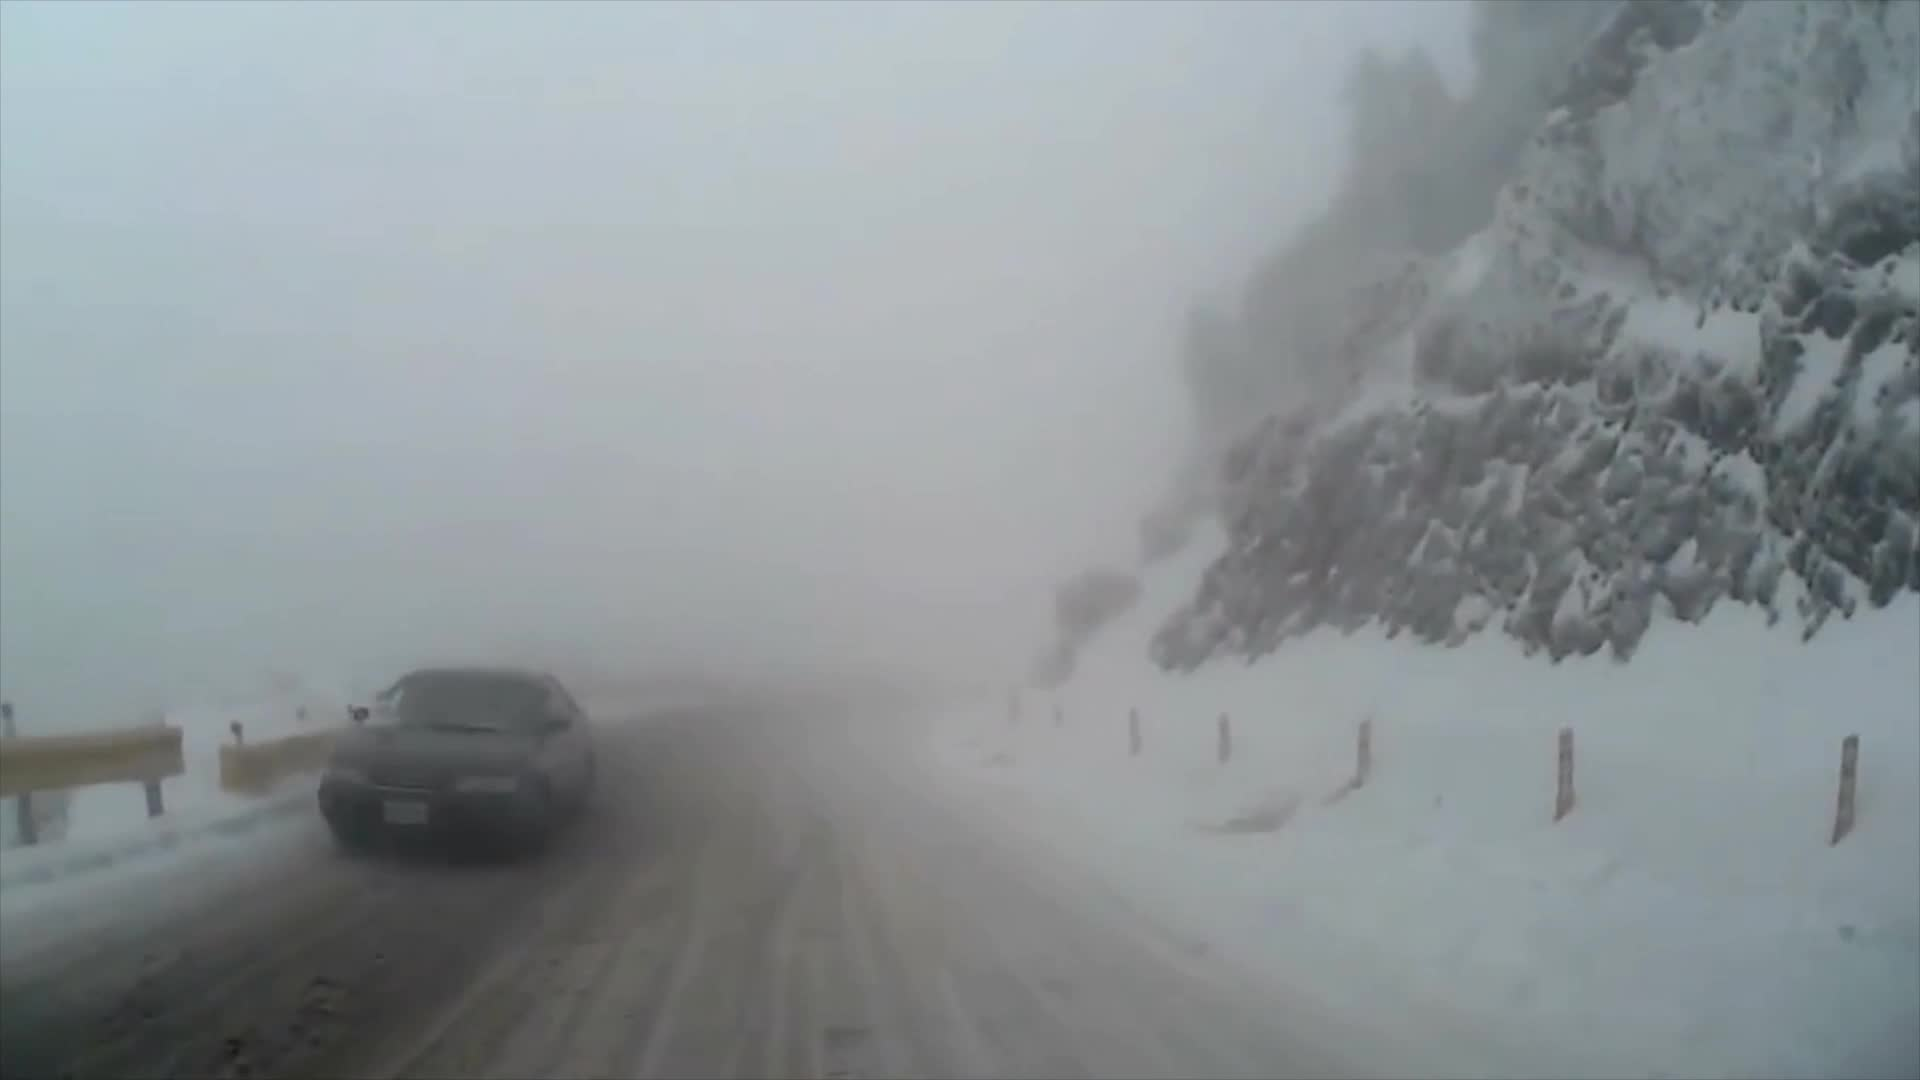vehicle: (314, 665, 597, 865)
